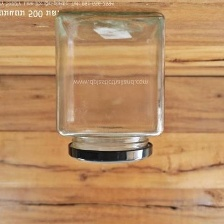glass: (44, 8, 175, 167)
